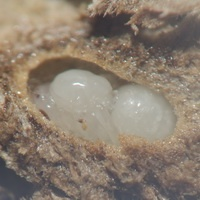insect: (26, 54, 177, 147), (28, 57, 175, 144)
